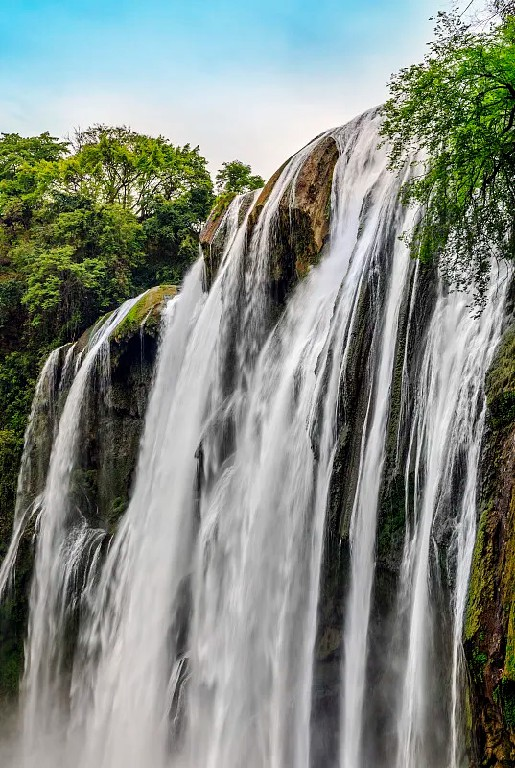Huangguoshu: (3, 111, 504, 768)
